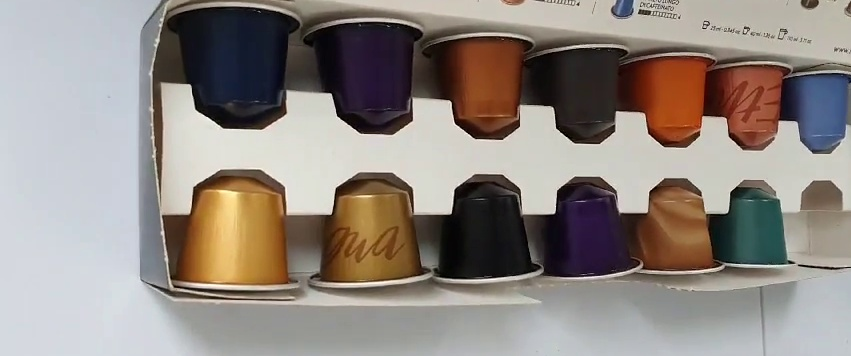capsule_1: (164, 4, 307, 127)
capsule_10: (433, 177, 545, 288)
capsule_11: (544, 177, 644, 282)
capsule_12: (635, 180, 726, 278)
capsule_13: (712, 186, 795, 273)
capsule_2: (305, 13, 424, 130)
capsule_3: (423, 27, 530, 137)
capsule_4: (534, 40, 631, 140)
capsule_5: (622, 49, 717, 147)
capsule_6: (705, 56, 794, 153)
capsule_7: (787, 69, 851, 154)
capsule_8: (170, 173, 305, 298)
capsule_9: (305, 171, 434, 292)
